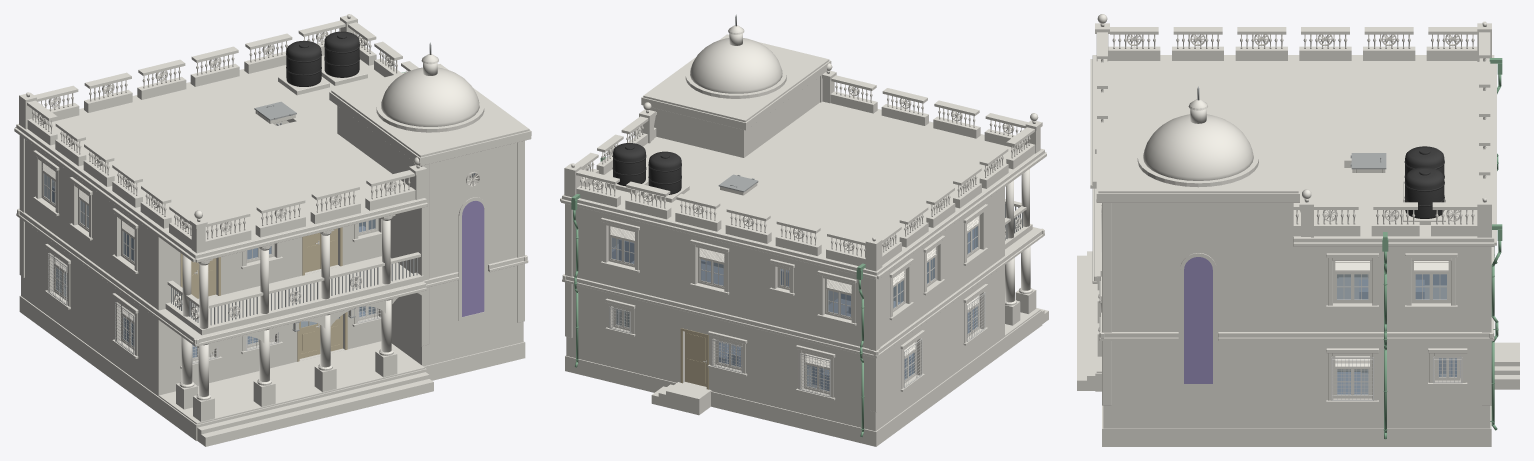
Rendered from fond_h13.glb.
The picture shows the model from 3 angles, left to right: view 1: azimuth 30°, elevation 25°; view 2: azimuth 150°, elevation 25°; view 3: azimuth 270°, elevation 25°; orthographic projection. The views are drawn at different scales.
Parts seen in each view (by area): view 1: Shell_WallsExterior, Shell_RoofSlab, plaster_white, Det_new_paint_terracotta_trim, Shell_VerandaBalconyTiles, Det_plaster_white, new_paint_terracotta_trim, new_plaster_mint_green, Shell_Foundation, new_tile_terracotta_step, Det_fine_new_pe_tank_black, paint_clean (+12 smaller); view 2: Shell_WallsExterior, Shell_RoofSlab, plaster_white, Det_plaster_white, new_paint_terracotta_trim, Det_new_paint_terracotta_trim, Shell_Foundation, paint_clean, glass, Det_fine_new_grille_steel_white, Det_fine_new_pe_tank_black, new_plaster_mint_green (+8 smaller); view 3: Shell_WallsExterior, Shell_RoofSlab, plaster_white, new_paint_terracotta_trim, Det_plaster_white, Det_new_paint_terracotta_trim, Shell_Foundation, paint_clean, Det_poster_stained_glass_tower, Det_fine_new_pe_tank_black, glass, new_tile_terracotta_step (+10 smaller).
Boxes of the visible parts, x1,y1,x2,y2 form: Shell_WallsExterior: (21,106,523,396); Shell_RoofSlab: (27,55,415,248); plaster_white: (19,14,531,400); Det_new_paint_terracotta_trim: (14,97,531,368); Shell_VerandaBalconyTiles: (159,256,424,424); Det_plaster_white: (16,64,527,357); new_paint_terracotta_trim: (33,54,529,368); new_plaster_mint_green: (181,220,423,396); Shell_Foundation: (19,295,525,440); new_tile_terracotta_step: (197,372,433,446); Det_fine_new_pe_tank_black: (286,31,359,86); paint_clean: (41,162,472,361); Shell_WallsExterior: (566,76,1004,431); Shell_RoofSlab: (579,101,1018,268); plaster_white: (564,33,1042,397); Det_plaster_white: (562,35,1044,397); new_paint_terracotta_trim: (600,25,987,400); Det_new_paint_terracotta_trim: (560,68,1046,411); Shell_Foundation: (565,310,1042,446); paint_clean: (608,215,979,394); glass: (611,226,977,391); Det_fine_new_grille_steel_white: (609,292,985,397); Det_fine_new_pe_tank_black: (612,143,681,194); new_plaster_mint_green: (1005,169,1030,302); Shell_WallsExterior: (1103,203,1490,428); Shell_RoofSlab: (1096,56,1490,236); plaster_white: (1095,14,1491,400); new_paint_terracotta_trim: (1098,99,1467,403); Det_plaster_white: (1092,55,1494,400); Det_new_paint_terracotta_trim: (1090,59,1496,405); Shell_Foundation: (1095,284,1491,446); paint_clean: (1333,261,1460,398); Det_poster_stained_glass_tower: (1184,257,1212,383); Det_fine_new_pe_tank_black: (1404,146,1444,218); glass: (1337,274,1456,394); new_tile_terracotta_step: (1077,251,1095,390).
Bounding box in the file's own units: 13.56 × 11.2 × 13.5.
